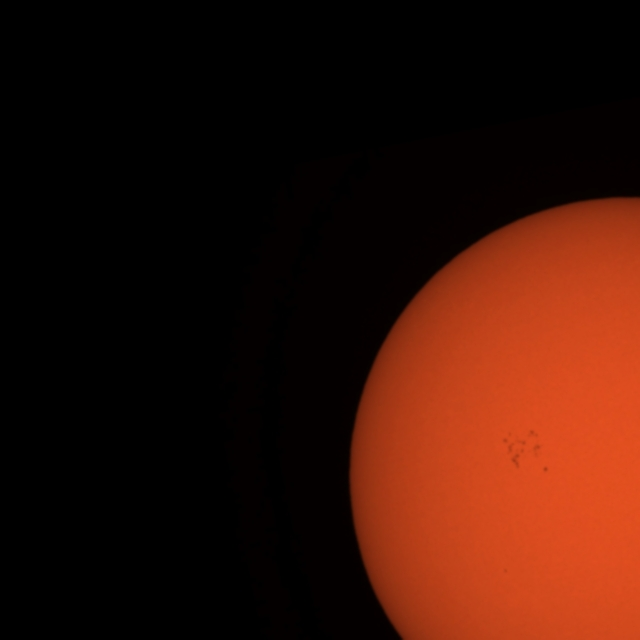sunspot: (502, 428, 541, 468), (542, 466, 550, 474), (502, 567, 509, 575)
